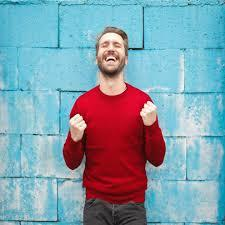Persons: (88, 25, 137, 84)
